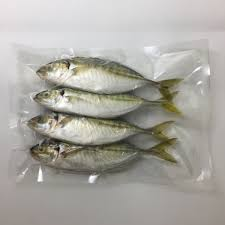Ikan Selar: (20, 107, 177, 148), (31, 55, 179, 97), (27, 83, 176, 124), (26, 140, 180, 178)
